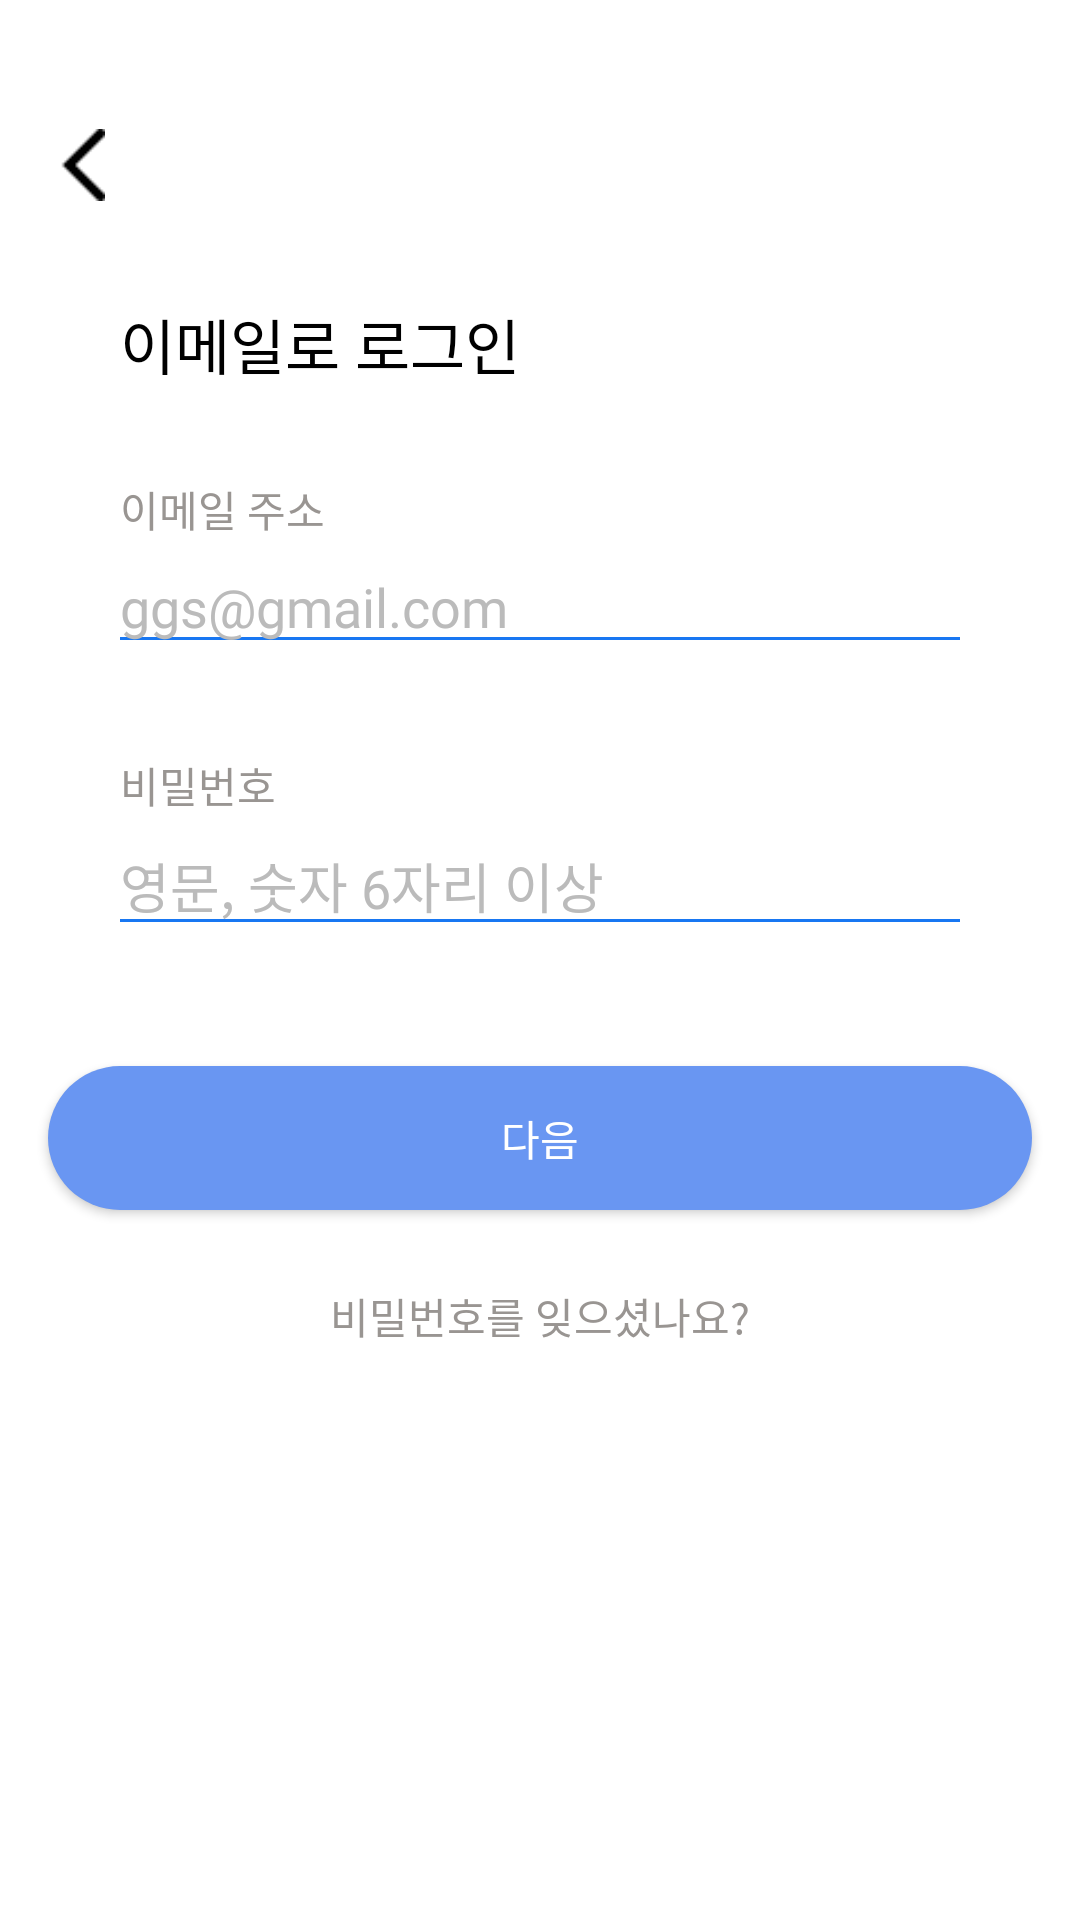

Where icons sit on this 1080 x 1920 app screen, as bbox(x1, y1, x2, y2):
backbtn: bbox(62, 129, 105, 201)
